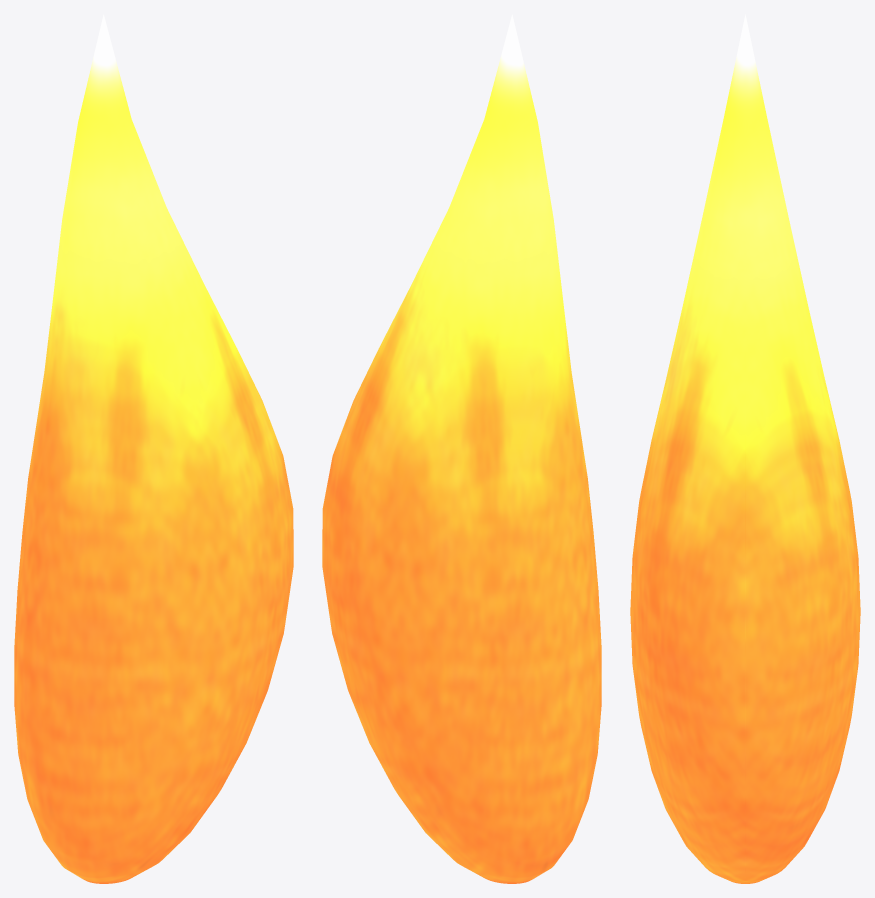
The model's file is fire.gltf.
3 renders of one model, left to right at view 1: azimuth 30°, elevation 25°; view 2: azimuth 150°, elevation 25°; view 3: azimuth 270°, elevation 25°, orthographic.
Parts seen in each view (by area): view 1: Flame0, Flame1, Flame2; view 2: Flame0, Flame1, Flame2; view 3: Flame0, Flame1, Flame2.
Boxes of the visible parts, x1,y1,x2,y2 form: Flame0: (14,15,293,883); Flame1: (14,15,292,883); Flame2: (16,189,292,883); Flame0: (322,15,601,883); Flame1: (322,15,601,883); Flame2: (324,167,599,883); Flame0: (630,14,860,883); Flame1: (631,16,860,883); Flame2: (631,204,859,883).
Bounding box in the file's own units: 8.7 × 28.22 × 6.84.
1 material, 1 textured.
